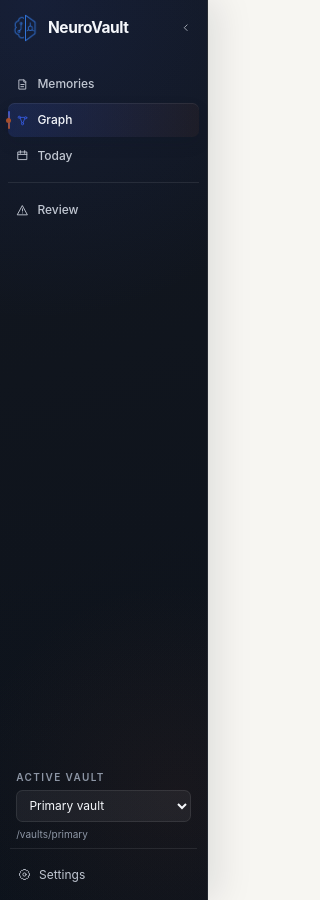
ConsumerNavigation › reports a failed vault switch without leaving the scoped destination active
Select "Second vault" in the dropdown named "Active vault" at (104, 806), box top-left (16, 790), bottom-right (191, 822)
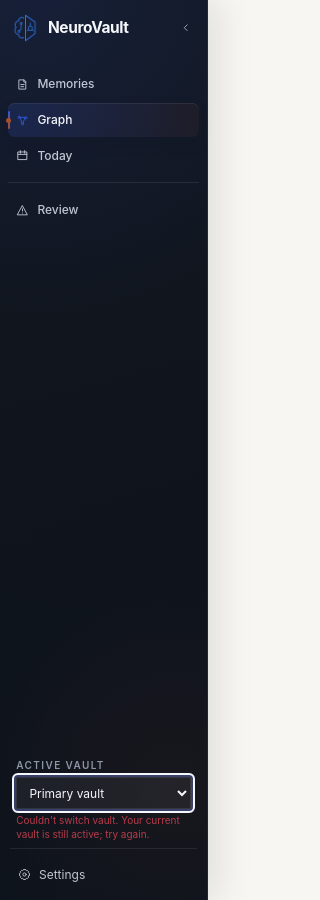
Expected: the dropdown named "Active vault" is enabled, top-left (16, 777), bottom-right (191, 809)
Expected: the message shows "Couldn't switch vault", top-left (16, 814), bottom-right (180, 840)
